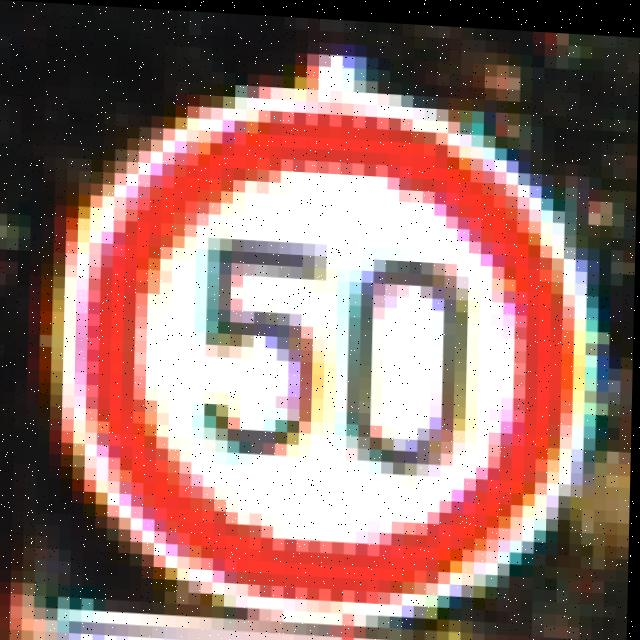speed_limit_50: (51, 73, 604, 628)
